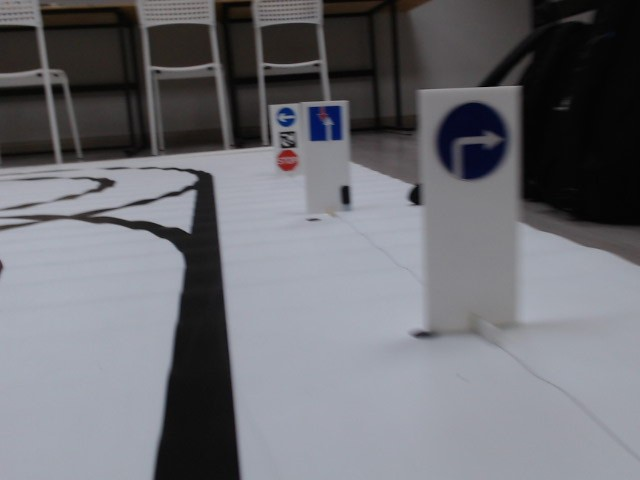Right: (431, 100, 512, 183)
Stop: (274, 150, 299, 171)
priority_movement: (305, 105, 346, 145)
